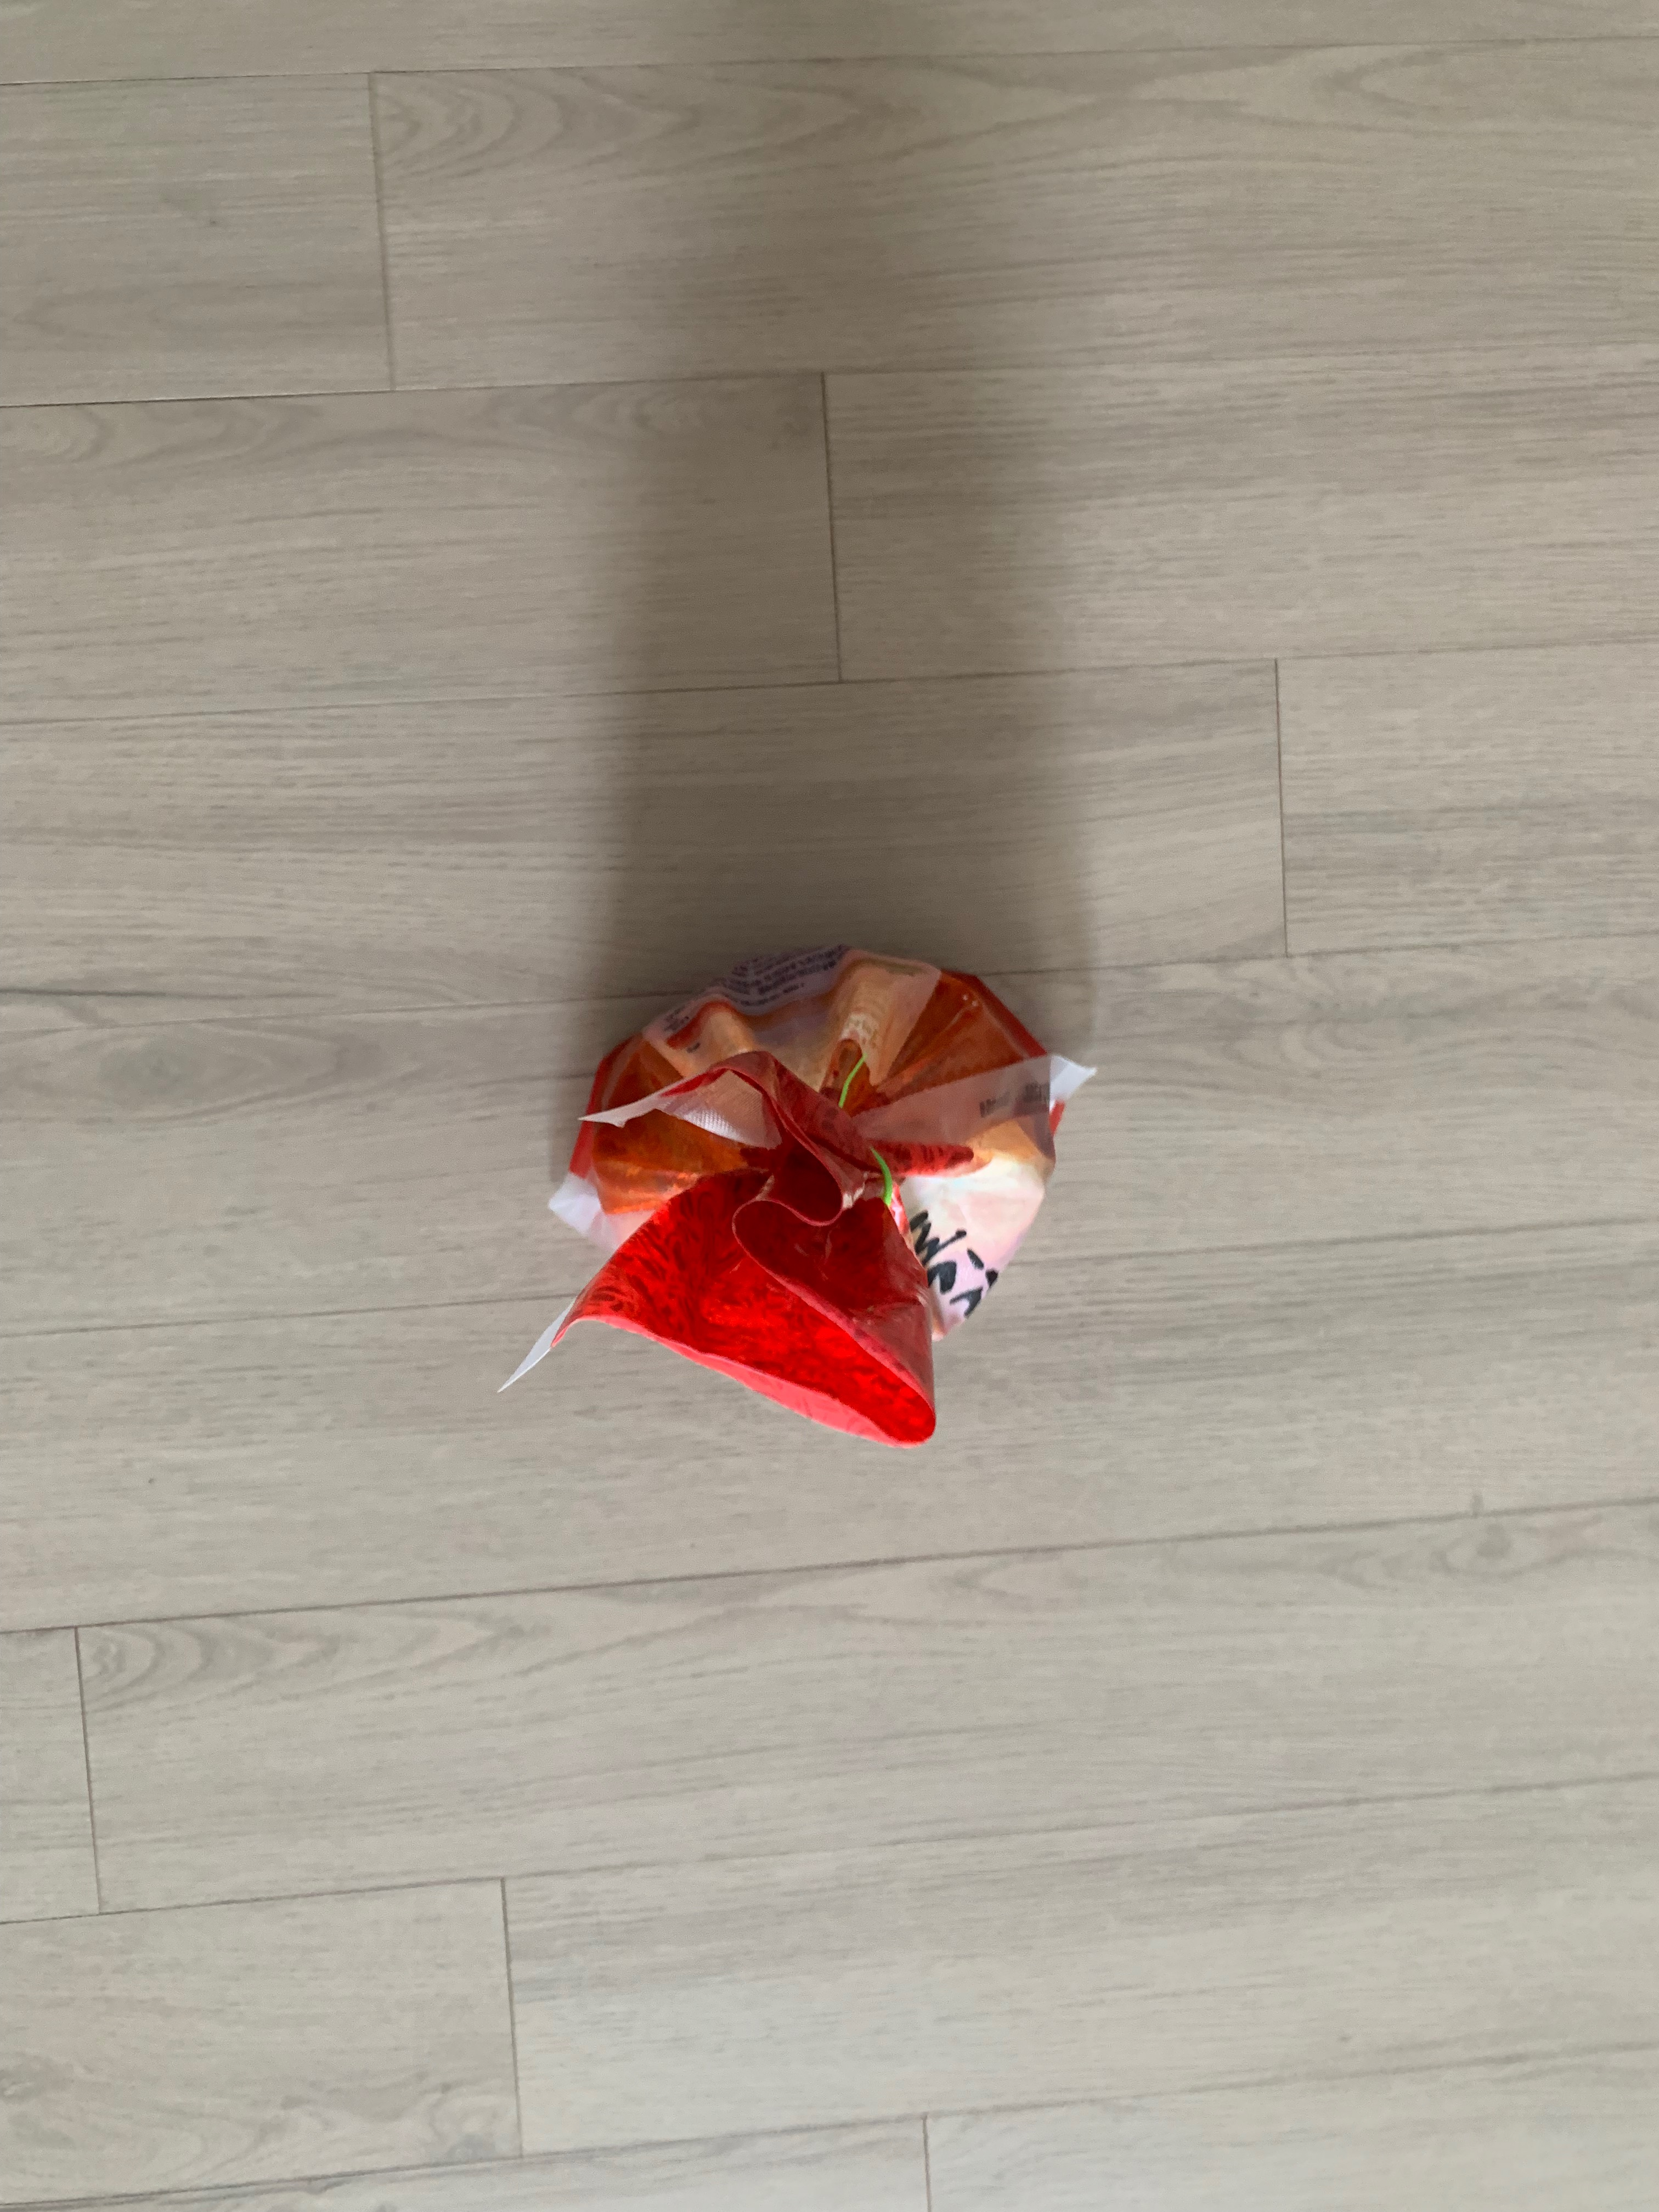kimchi: (558, 954, 1063, 1440)
